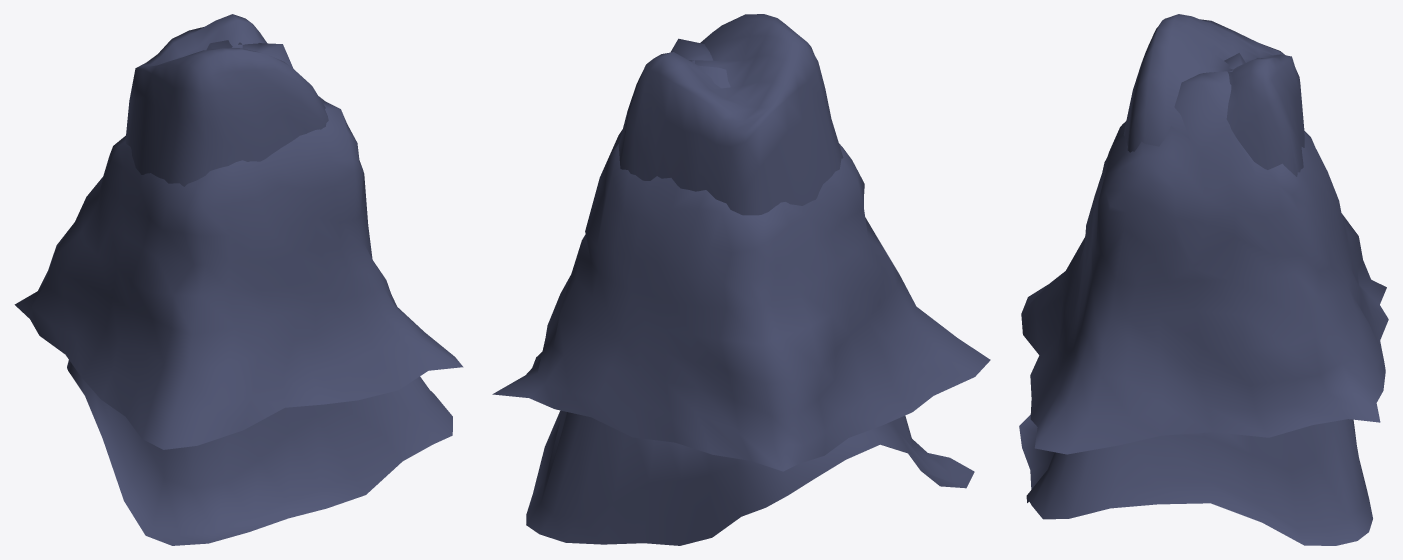
Rendered from plataforms.fbx.
3 views of the same model, side by side, from view 1: azimuth 30°, elevation 25°; view 2: azimuth 150°, elevation 25°; view 3: azimuth 270°, elevation 25° (orthographic). The views are drawn at different scales.
Visible parts, largest first — view 1: Mountain_A, Mountain_A.001; view 2: Mountain_A, Mountain_A.001; view 3: Mountain_A, Mountain_A.001.
Part boxes in pixels (left/top/right/bottom): Mountain_A: left=14, top=40, right=463, bottom=449; Mountain_A.001: left=67, top=14, right=452, bottom=545; Mountain_A: left=492, top=38, right=990, bottom=471; Mountain_A.001: left=526, top=14, right=974, bottom=545; Mountain_A: left=1021, top=53, right=1388, bottom=454; Mountain_A.001: left=1019, top=14, right=1372, bottom=545.
Bounding box in the file's own units: 10127 × 13020 × 9655.
